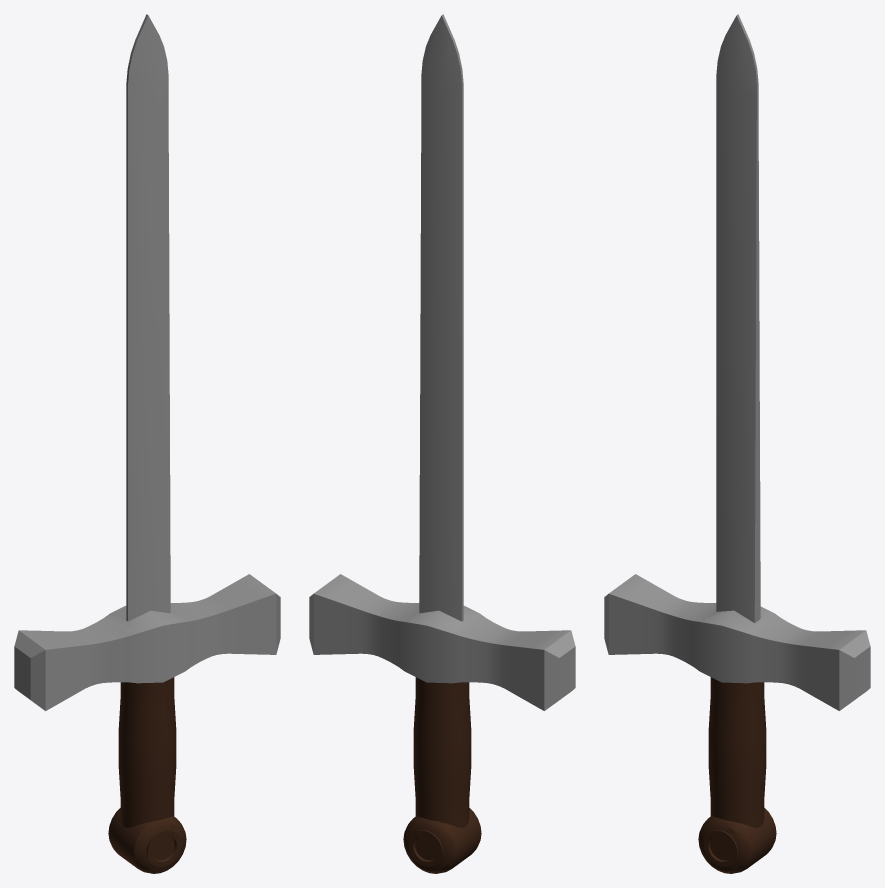
Rendered from sword.fbx.
3 views of the same model, side by side, from view 1: azimuth 30°, elevation 25°; view 2: azimuth 150°, elevation 25°; view 3: azimuth 330°, elevation 25° (orthographic).
Visible parts, largest first — view 1: Cylinder; view 2: Cylinder; view 3: Cylinder.
Part boxes in pixels (box(x1,y1,x2,y2)): Cylinder: box(14, 14, 280, 873); Cylinder: box(309, 14, 575, 873); Cylinder: box(604, 14, 870, 873).
Size of the model in its own units: 1073 by 3487 by 252.
